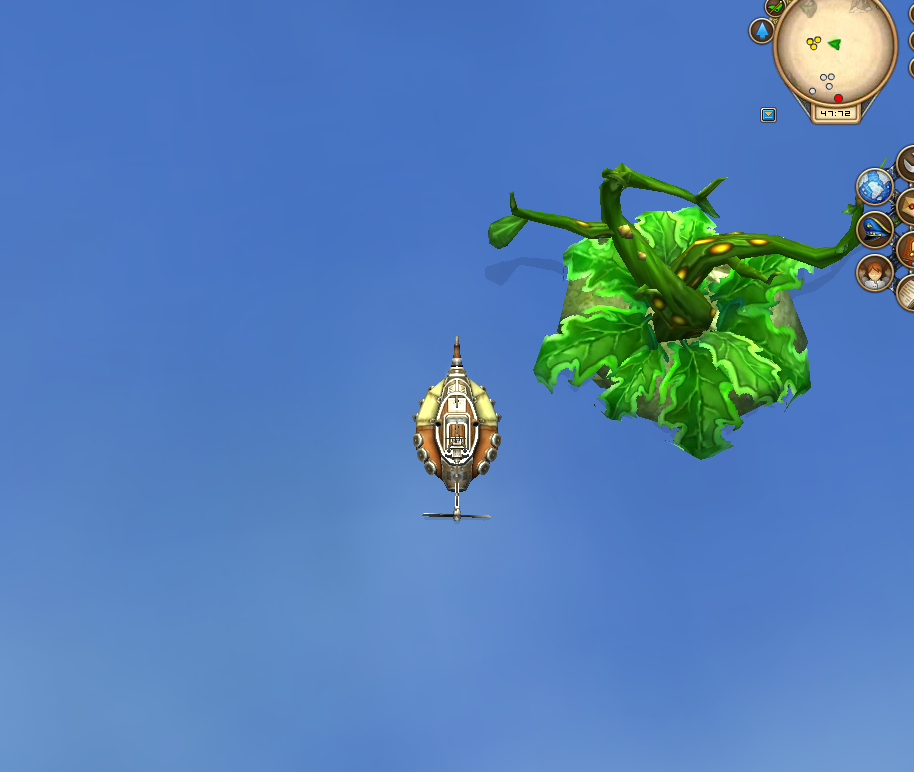dandelion-empty: (492, 161, 855, 458)
